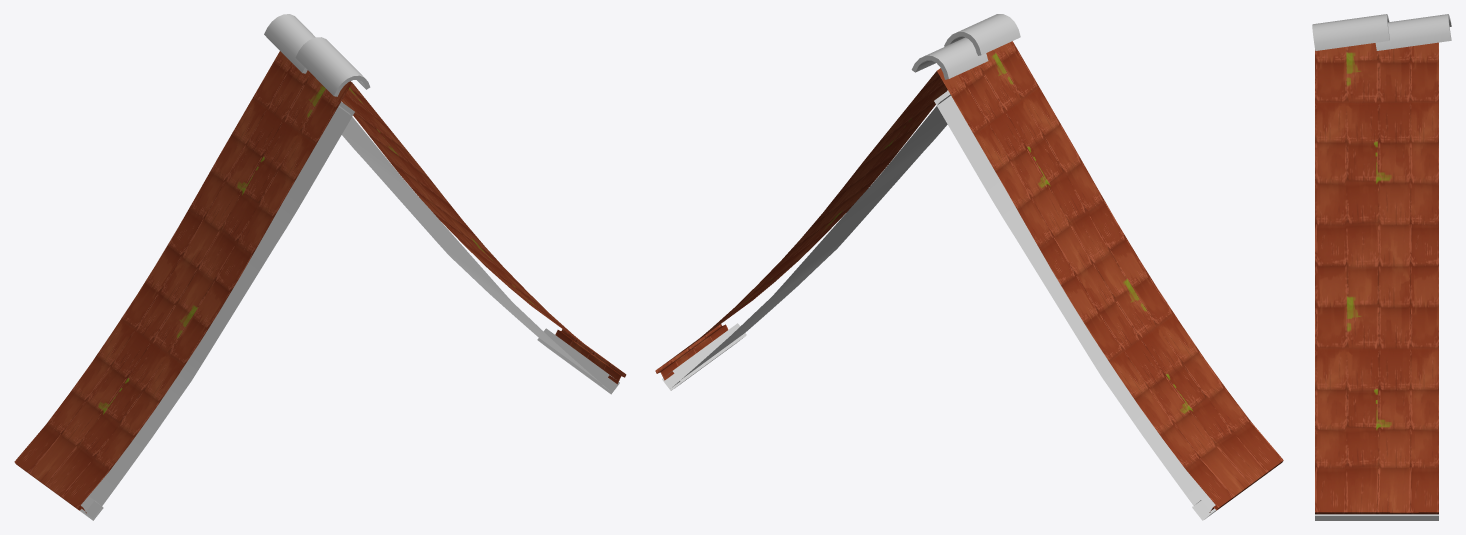
File: Roof_Modular_FlatTiles_8_Mid.fbx
3 renders of one model, left to right at view 1: azimuth 30°, elevation 25°; view 2: azimuth 150°, elevation 25°; view 3: azimuth 270°, elevation 25°, orthographic. The views are drawn at different scales.
Visible parts, largest first — view 1: Roof_Modular_FlatTiles_8_Mid; view 2: Roof_Modular_FlatTiles_8_Mid; view 3: Roof_Modular_FlatTiles_8_Mid.
Boxes of the visible parts, x1=… form: Roof_Modular_FlatTiles_8_Mid: x1=14, y1=14, x2=626, y2=520; Roof_Modular_FlatTiles_8_Mid: x1=655, y1=14, x2=1283, y2=520; Roof_Modular_FlatTiles_8_Mid: x1=1312, y1=14, x2=1451, y2=520.
Bounding box in the file's own units: 995 × 682 × 225.
